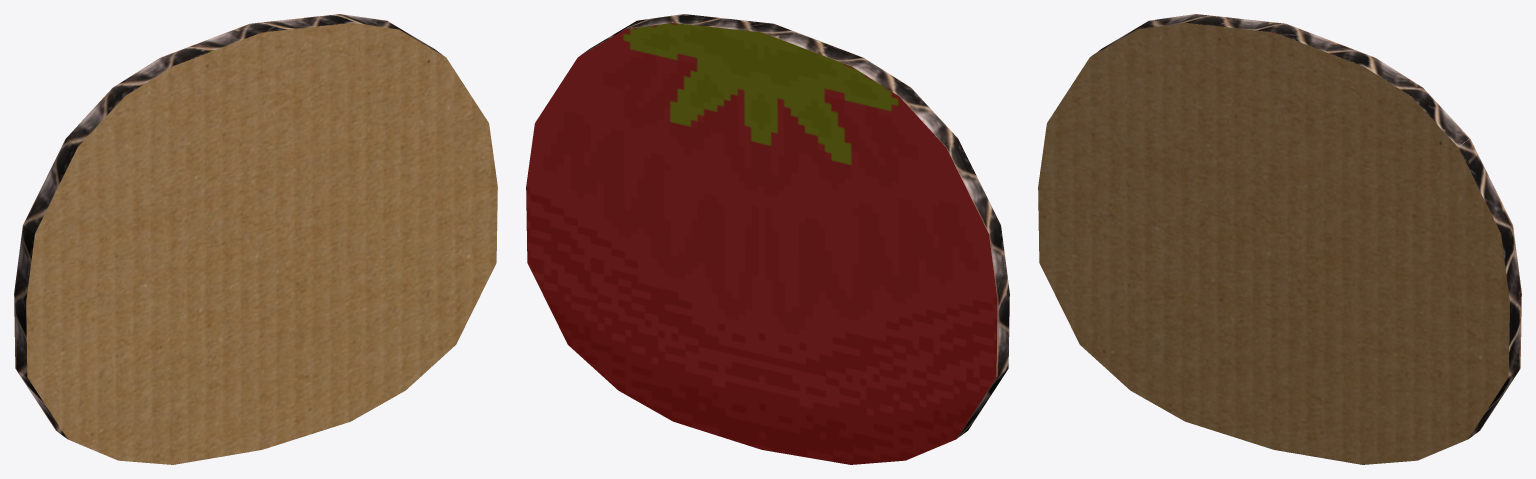
Rendered from TOMATE_A.glb.
The picture shows the model from 3 angles, left to right: view 1: azimuth 30°, elevation 25°; view 2: azimuth 150°, elevation 25°; view 3: azimuth 330°, elevation 25°; orthographic projection.
Visible parts, largest first — view 1: TOMATE; view 2: TOMATE; view 3: TOMATE.
Boxes of the visible parts, left/top/right/bottom form: TOMATE: left=14, top=14, right=497, bottom=464; TOMATE: left=526, top=14, right=1009, bottom=464; TOMATE: left=1038, top=14, right=1521, bottom=464.
Size of the model in its own units: 2.03 by 1.72 by 0.09.
1 material, 1 textured.
